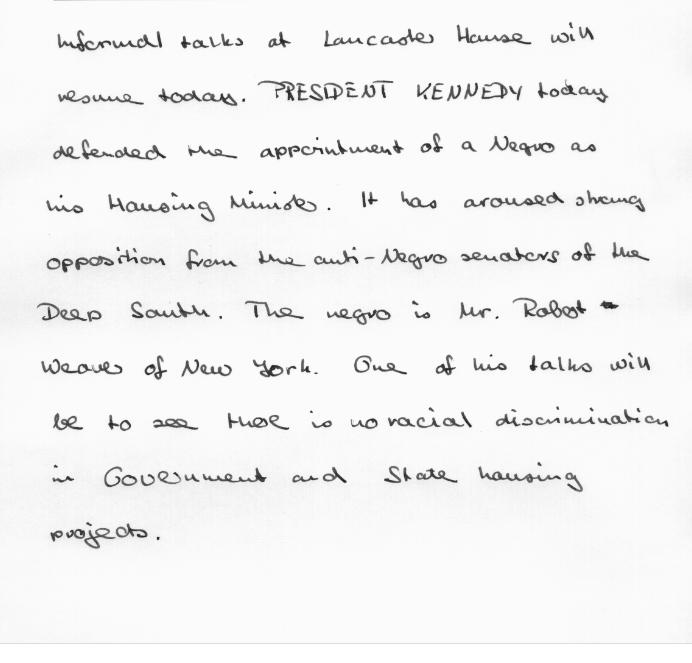text: (42, 183, 649, 220), (35, 348, 655, 384), (52, 16, 597, 56), (43, 242, 652, 276), (50, 459, 584, 496), (47, 403, 673, 434), (52, 128, 602, 162), (55, 75, 612, 108), (33, 296, 624, 326), (47, 519, 160, 550)
